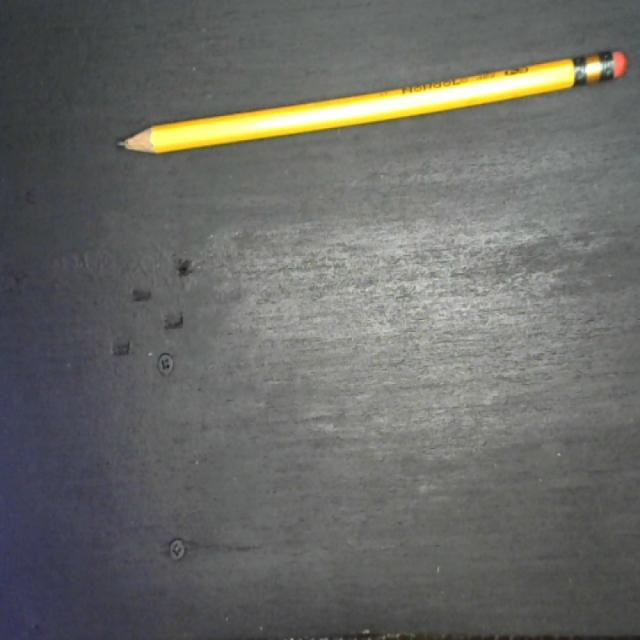biodegradable: (112, 44, 628, 157)
